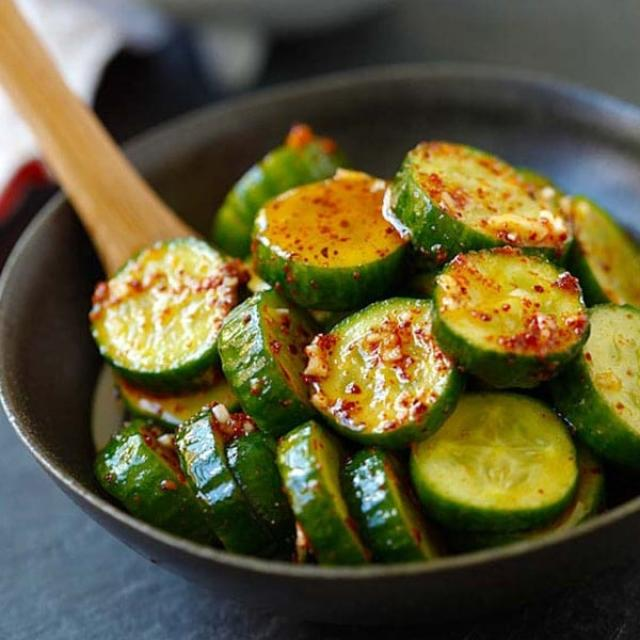Pickle: (89, 236, 248, 391), (304, 298, 461, 447), (412, 392, 579, 531), (391, 140, 571, 264), (251, 169, 408, 311), (434, 248, 589, 388), (212, 124, 349, 257), (94, 419, 215, 543), (175, 408, 275, 553), (551, 305, 640, 467), (218, 290, 316, 434), (278, 420, 371, 563), (342, 448, 438, 562), (228, 431, 294, 558), (569, 196, 640, 308)
